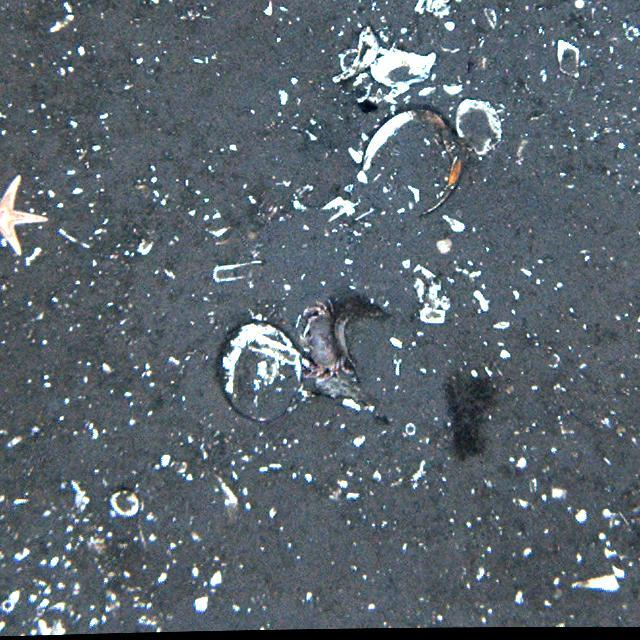crab: (298, 301, 346, 381)
